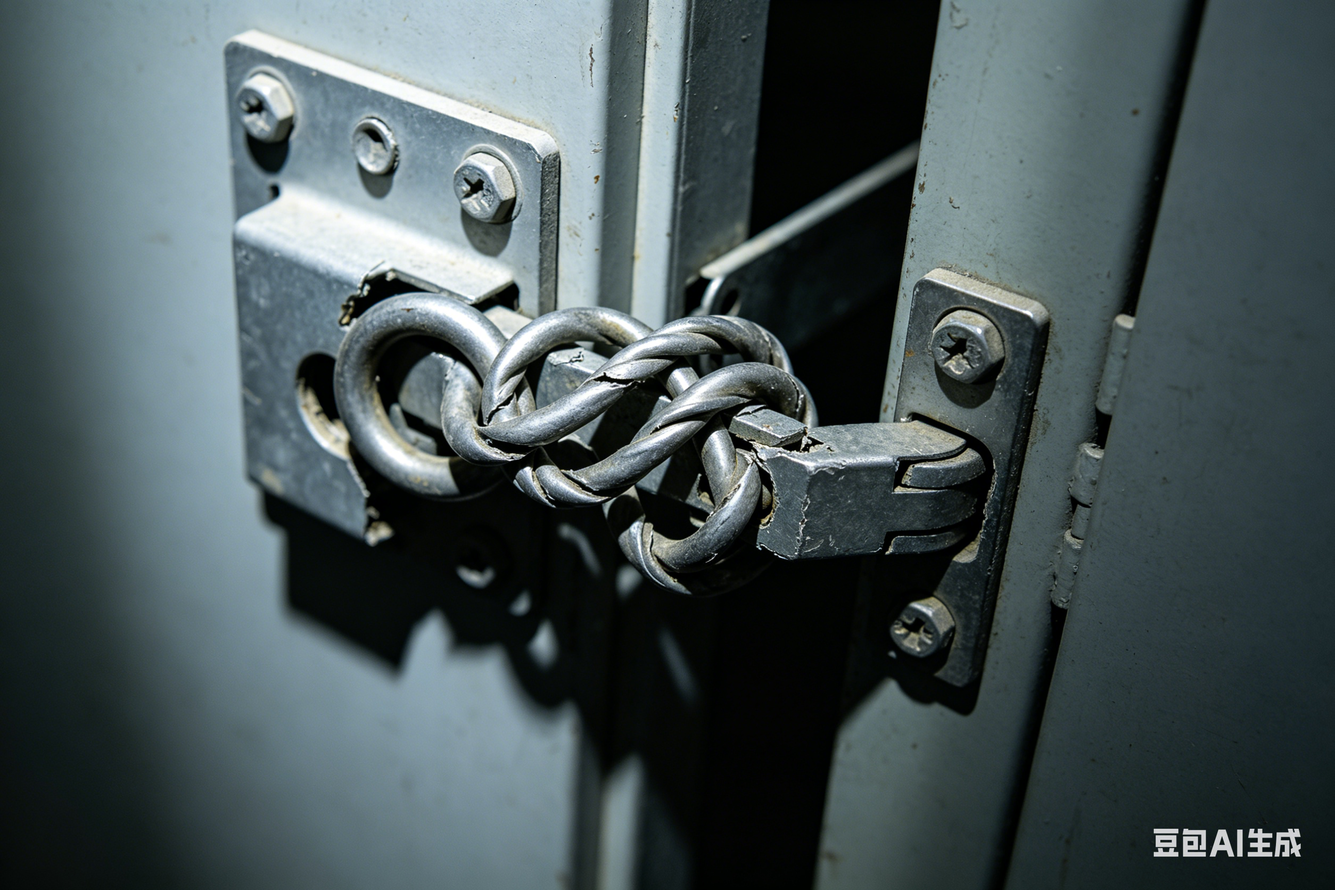BadLock: (330, 244, 817, 545)
